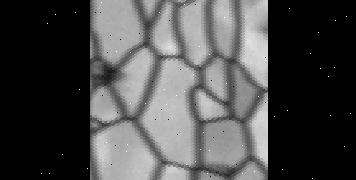good_void: (88, 56, 129, 91)
